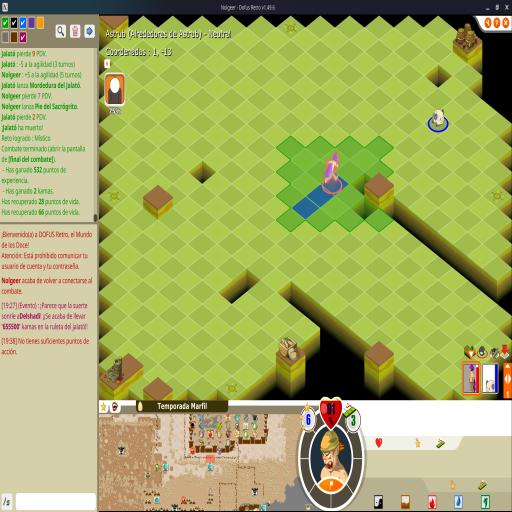Enemigos: (428, 108, 449, 133)
Personaje: (322, 150, 342, 194)
